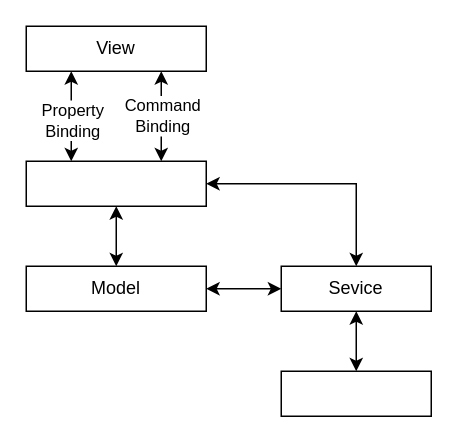
This 458x443 diagram has some shape labels left out. Here are the shapes that lost their labels. From the top down, the centre of each, then its label:
At point 115,183: "ViewModel".
At point 355,393: "Database".
